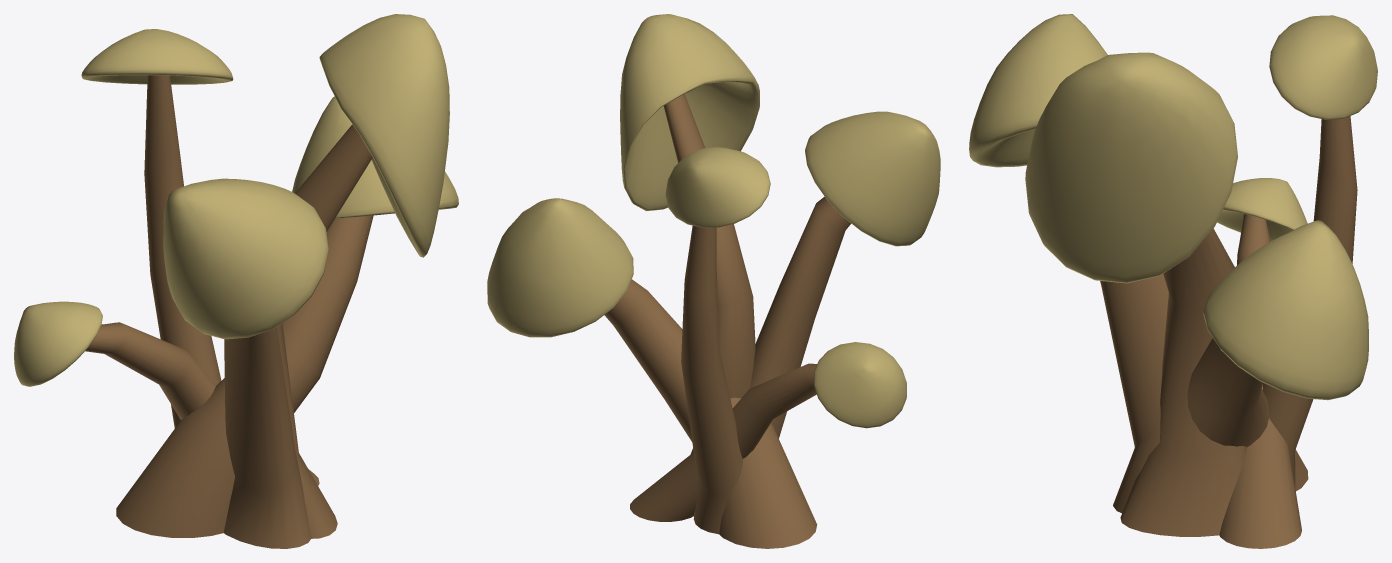
The model's file is sm_mushroom_01.fbx.
3 renders of one model, left to right at view 1: azimuth 30°, elevation 25°; view 2: azimuth 150°, elevation 25°; view 3: azimuth 270°, elevation 25°, orthographic. The views are drawn at different scales.
Parts seen in each view (by area): view 1: sm_mushroom_01; view 2: sm_mushroom_01; view 3: sm_mushroom_01.
Boxes of the visible parts, left/top/right/bottom form: sm_mushroom_01: left=14, top=14, right=458, bottom=548; sm_mushroom_01: left=487, top=14, right=940, bottom=548; sm_mushroom_01: left=969, top=14, right=1377, bottom=548.
Size of the model in its own units: 1.77 by 1.88 by 1.38.
